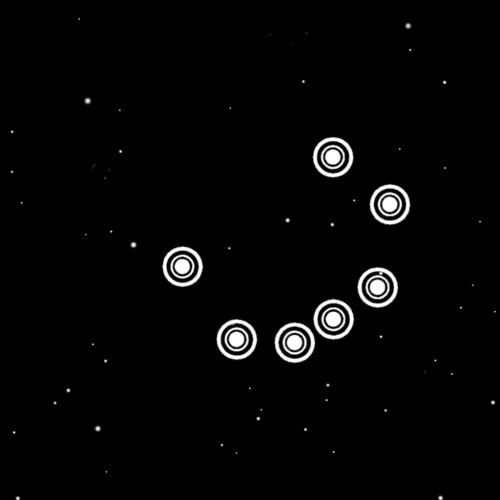corona_borealis: (156, 120, 415, 374)
